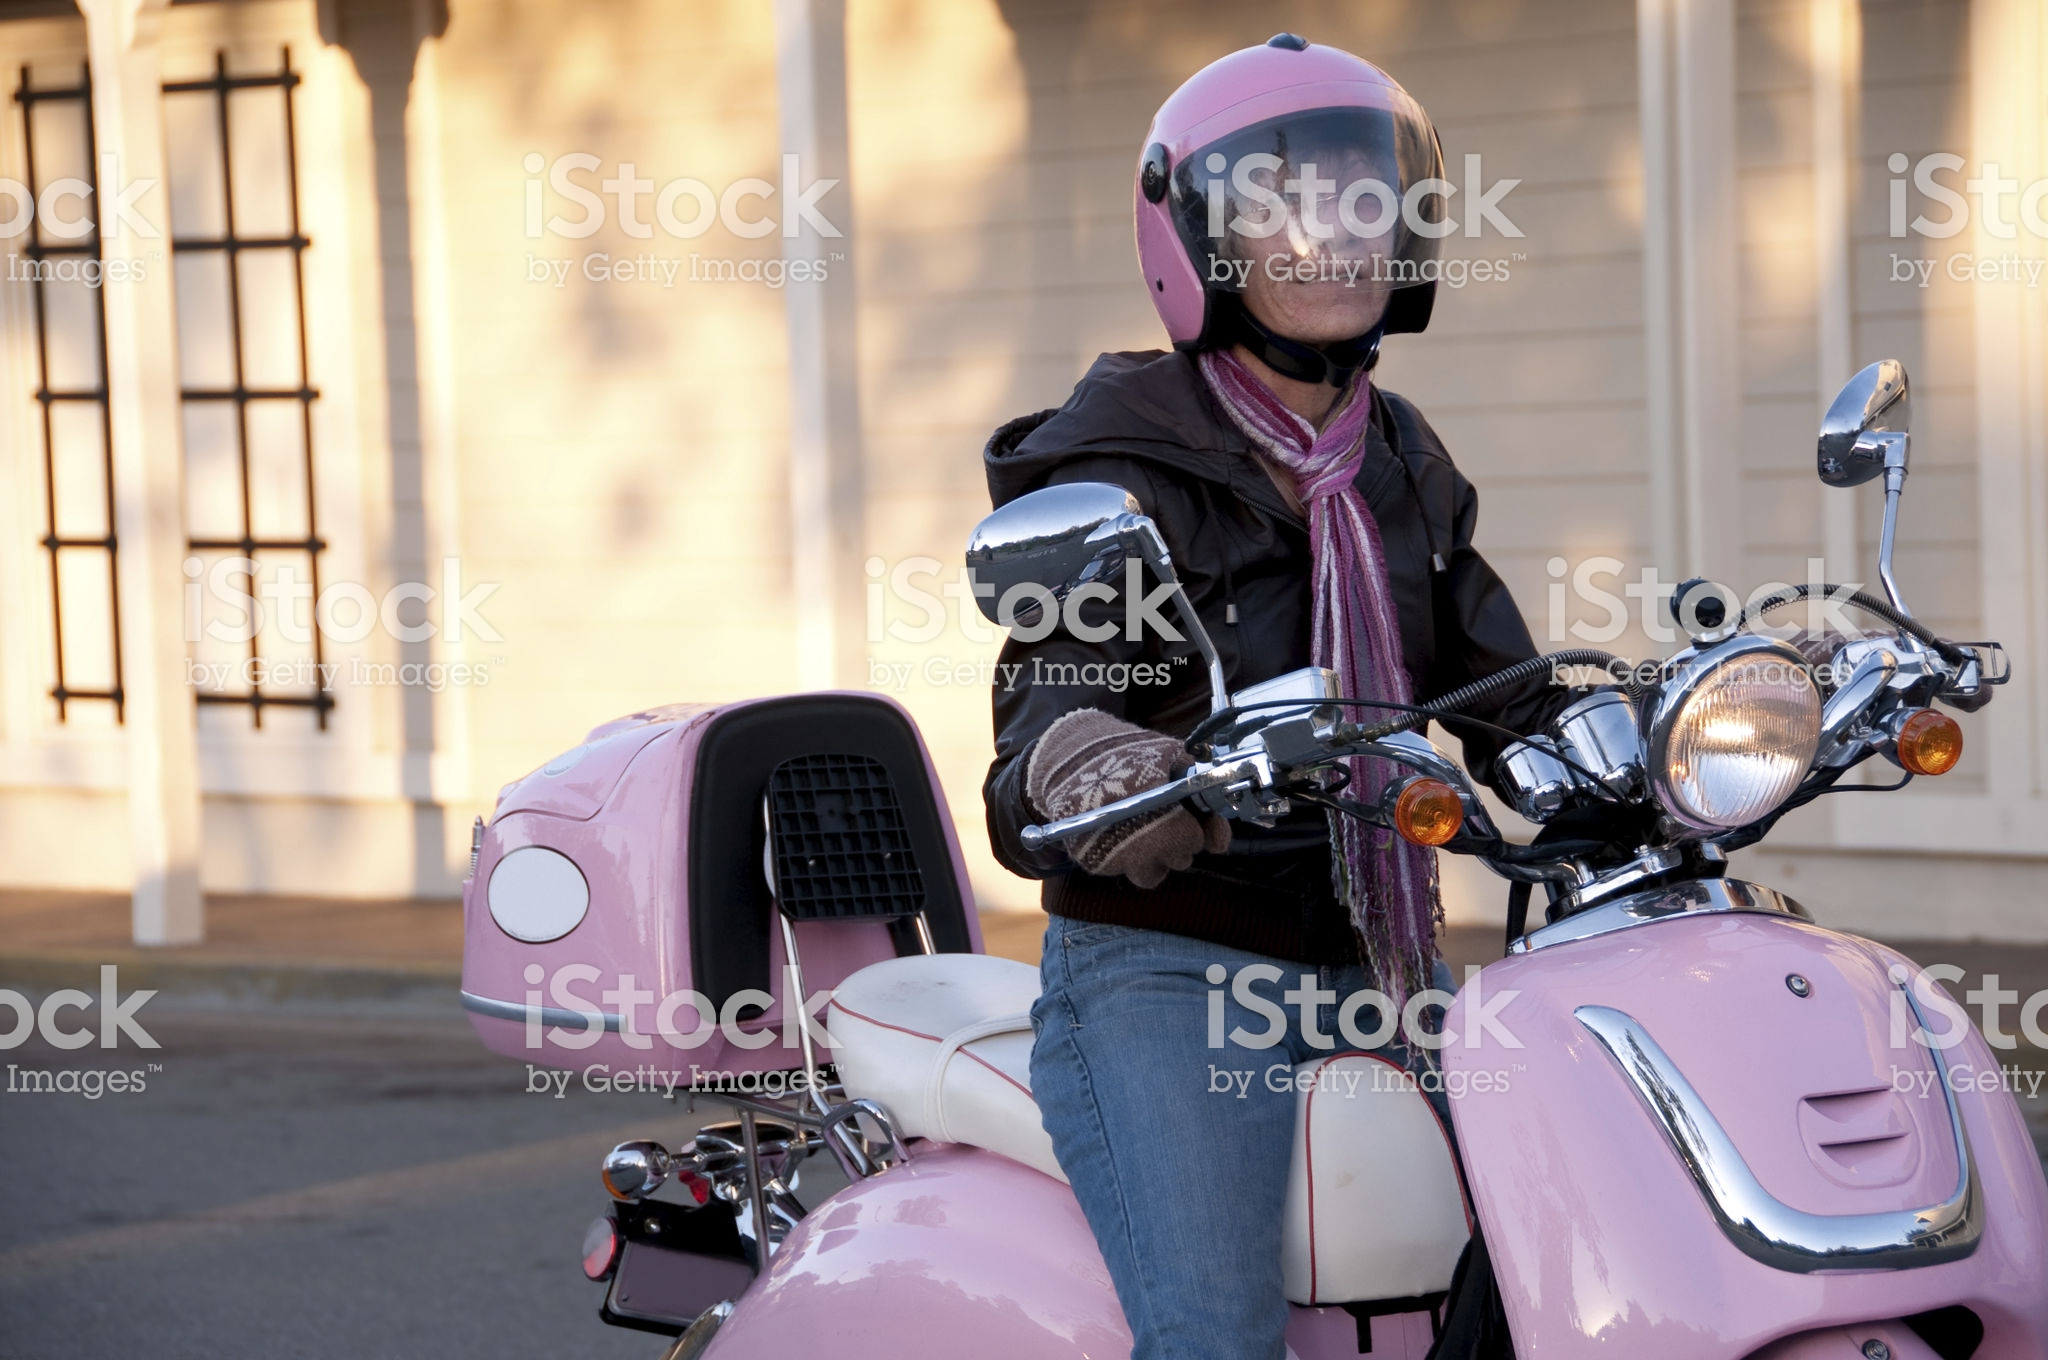helmet: (1091, 46, 1461, 387)
